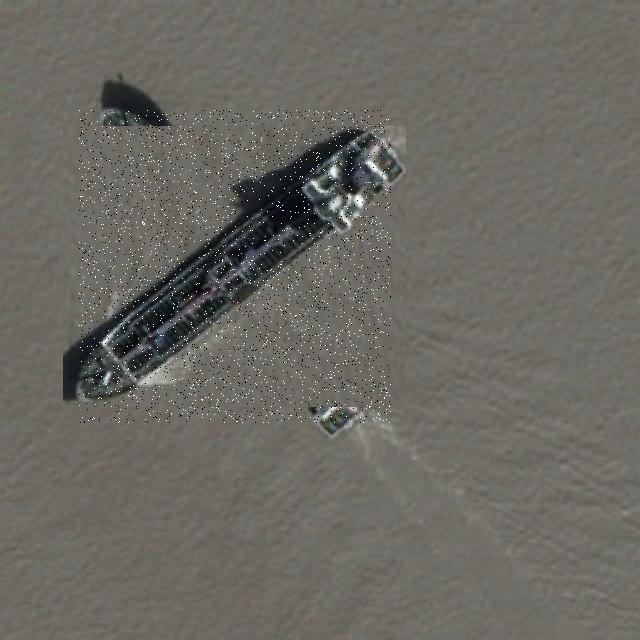boat: (79, 110, 391, 423)
